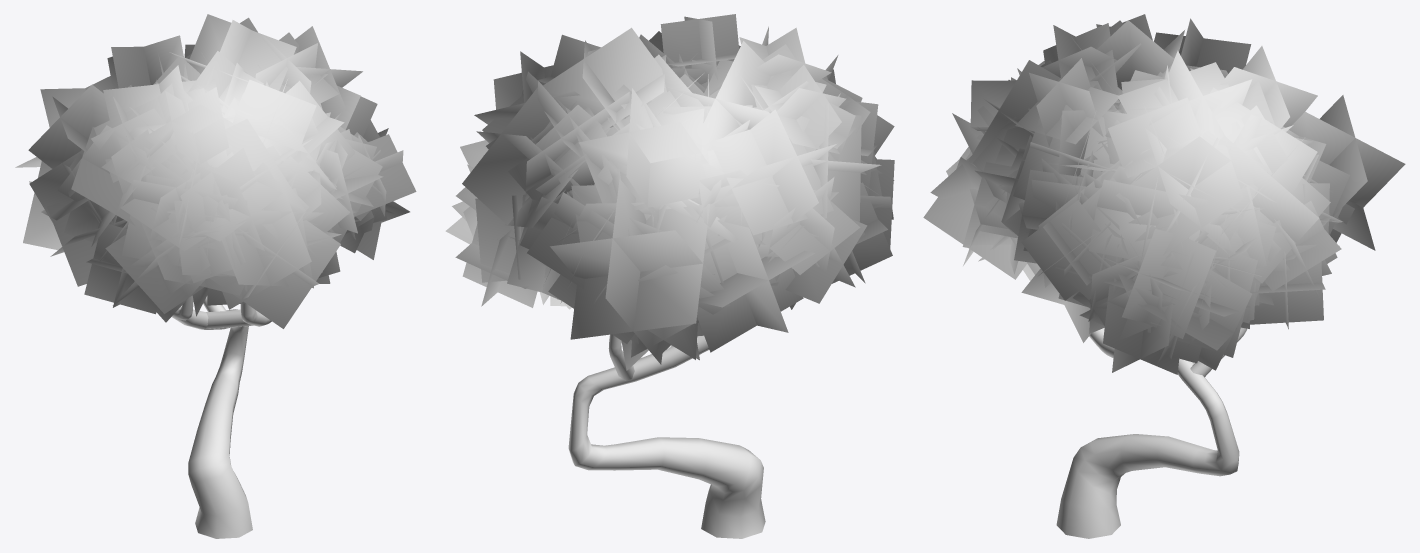
File: STSwiggly4.glb
3 renders of one model, left to right at view 1: azimuth 30°, elevation 25°; view 2: azimuth 150°, elevation 25°; view 3: azimuth 270°, elevation 25°, orthographic. The views are drawn at different scales.
Parts seen in each view (by area): view 1: Leaf.078; view 2: Leaf.078; view 3: Leaf.078.
Part boxes in pixels (x1,y1,x2,y2): Leaf.078: (15,14,416,538); Leaf.078: (445,14,894,538); Leaf.078: (923,14,1405,538).
Size of the model in its own units: 4.67 by 5.96 by 5.2.
Materials: 2 (1 with a texture image).
